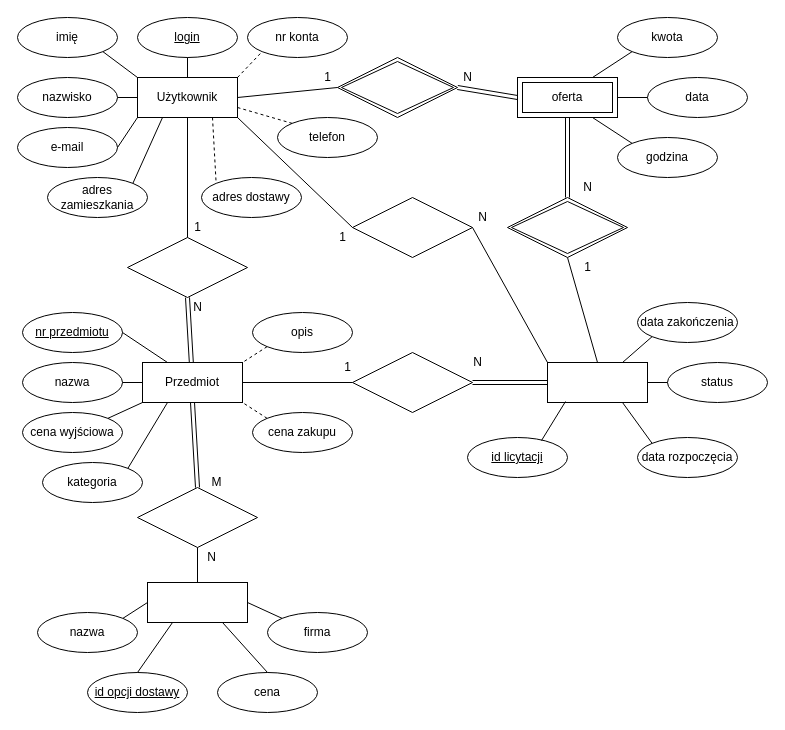
Image size: 785x730. Some labels were removed from this diagram. Here are the shapes that lost their labels. From the top down, the centre of each, then its label:
point (397, 87): Składa
point (412, 227): Wygrana
point (567, 227): Składana
point (187, 267): Wystawia
point (412, 382): Wystawiony
point (597, 382): licytacja
point (197, 517): Posiada
point (197, 602): opcja dostawy
